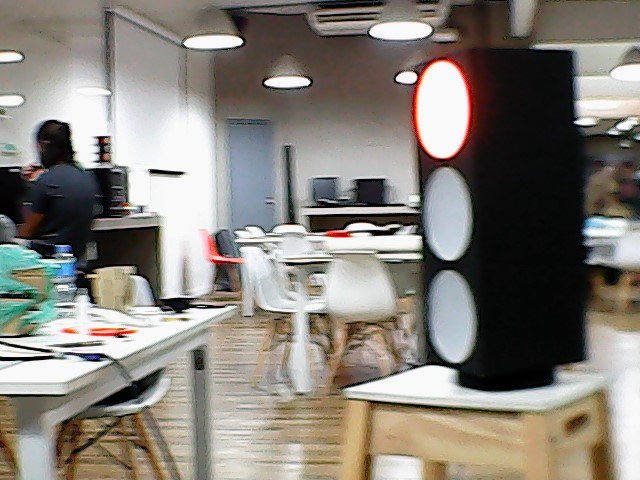vermelho: (412, 40, 592, 374)
